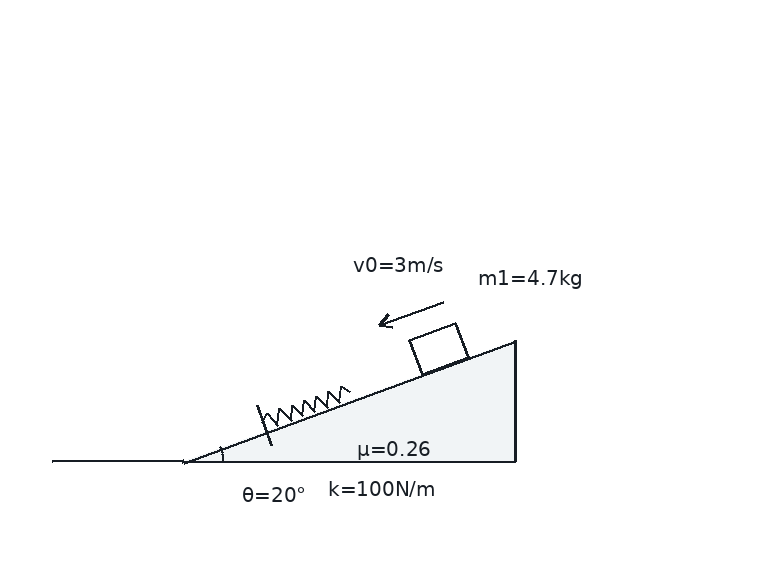block: (408, 322, 470, 376)
ramp: (181, 338, 517, 463)
spring: (261, 385, 351, 426)
